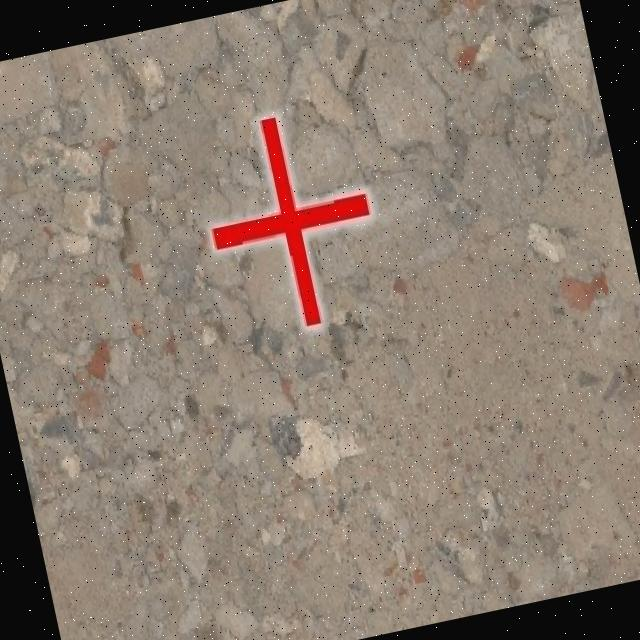x_marker: (190, 100, 390, 342)
